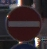No entry: (5, 6, 41, 43)
